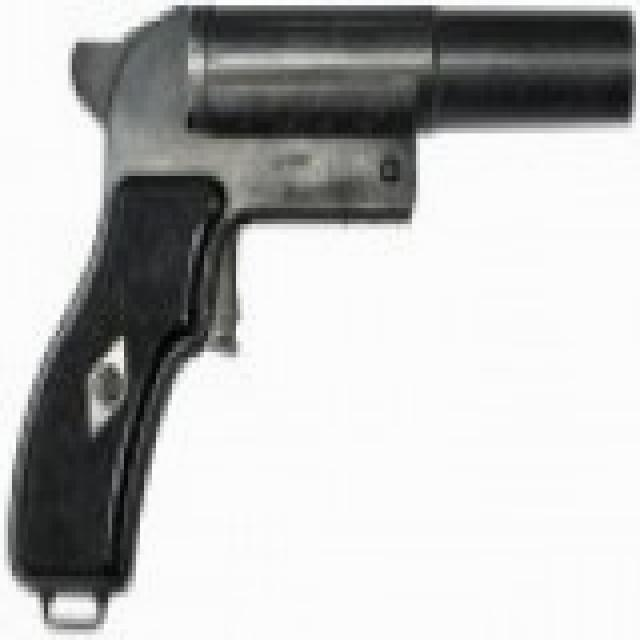pistol: (12, 0, 636, 597)
